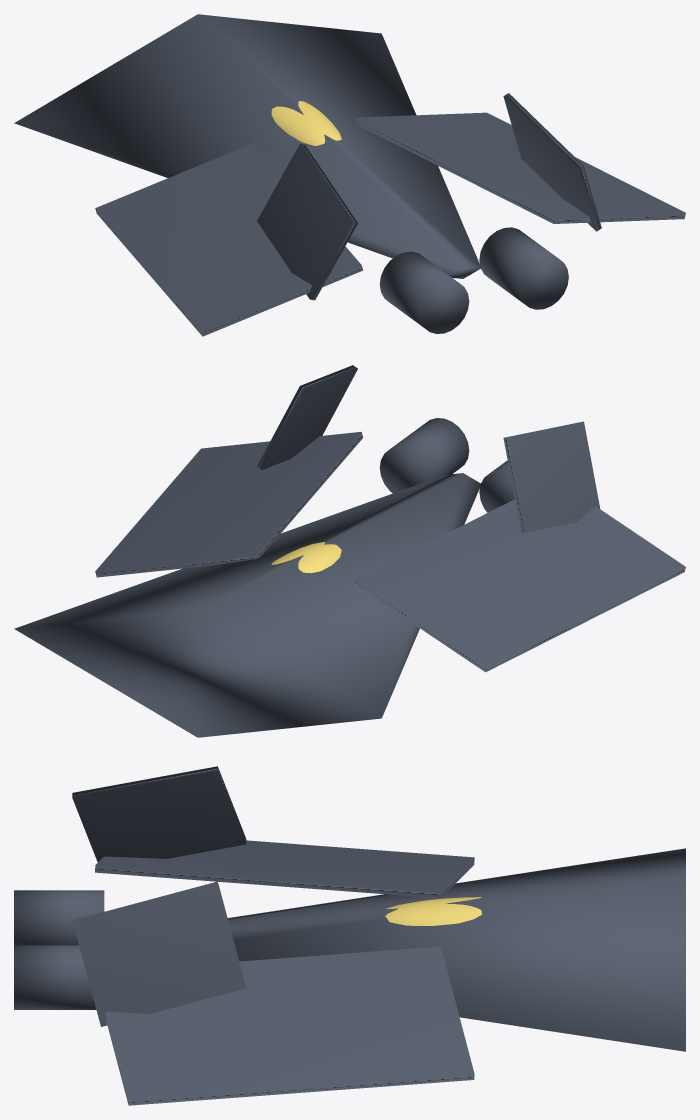
The model's file is Sol_Scout_Ship.fbx.
The picture shows the model from 3 angles, top to bottom: view 1: azimuth 30°, elevation 25°; view 2: azimuth 150°, elevation 25°; view 3: azimuth 270°, elevation 25°; orthographic projection. The views are drawn at different scales.
Parts seen in each view (by area): view 1: Scout_Fuselage, Scout_Wing_Port, Scout_Wing_Starboard, Scout_Fin_Port, Scout_Thruster_Port, Scout_Thruster_Starboard, Scout_Fin_Starboard, Scout_Cockpit_Canopy; view 2: Scout_Fuselage, Scout_Wing_Port, Scout_Wing_Starboard, Scout_Fin_Port, Scout_Thruster_Starboard, Scout_Fin_Starboard, Scout_Cockpit_Canopy, Scout_Thruster_Port; view 3: Scout_Fuselage, Scout_Wing_Starboard, Scout_Fin_Starboard, Scout_Wing_Port, Scout_Fin_Port, Scout_Thruster_Starboard, Scout_Thruster_Port, Scout_Cockpit_Canopy.
Boxes of the visible parts, x1,y1,x2,y2 form: Scout_Fuselage: (14,14,481,278); Scout_Wing_Port: (95,142,363,336); Scout_Wing_Starboard: (355,112,685,223); Scout_Fin_Port: (257,144,357,300); Scout_Thruster_Port: (379,251,469,333); Scout_Thruster_Starboard: (479,227,568,309); Scout_Fin_Starboard: (503,93,601,231); Scout_Cockpit_Canopy: (271,101,341,145); Scout_Fuselage: (14,473,480,737); Scout_Wing_Port: (355,499,685,672); Scout_Wing_Starboard: (95,431,363,577); Scout_Fin_Port: (503,421,600,533); Scout_Thruster_Starboard: (379,418,469,493); Scout_Fin_Starboard: (257,365,357,469); Scout_Cockpit_Canopy: (271,542,341,573); Scout_Thruster_Port: (479,460,514,512); Scout_Fuselage: (227,848,685,1051); Scout_Wing_Starboard: (105,946,474,1105); Scout_Fin_Starboard: (72,881,246,1026); Scout_Wing_Port: (95,840,474,897); Scout_Fin_Port: (72,766,246,862); Scout_Thruster_Starboard: (14,945,96,1009); Scout_Thruster_Port: (14,890,104,945); Scout_Cockpit_Canopy: (385,897,481,925).
Size of the model in its own units: 1266 by 437 by 1340.
